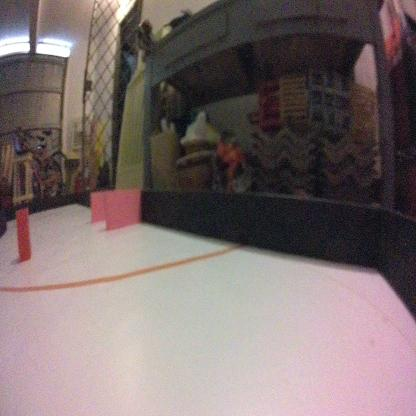magenta: (106, 188, 141, 234), (89, 188, 115, 226)
red: (14, 204, 30, 256)
